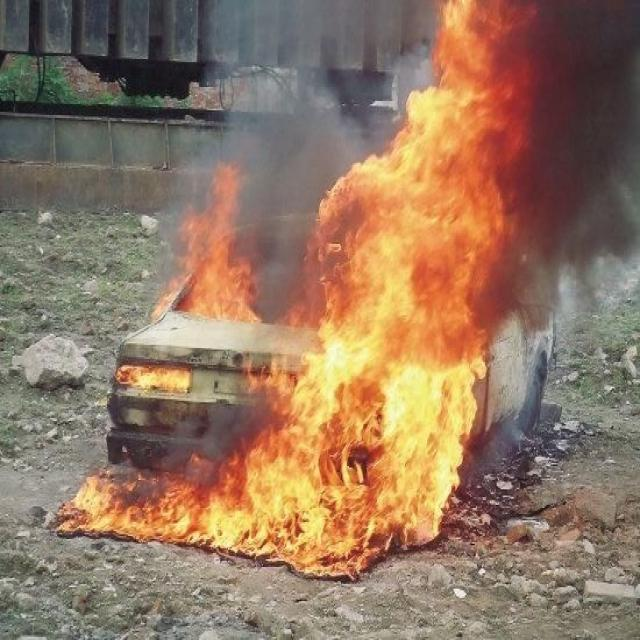Fire: (54, 2, 536, 584)
Smoke: (556, 2, 640, 337)
